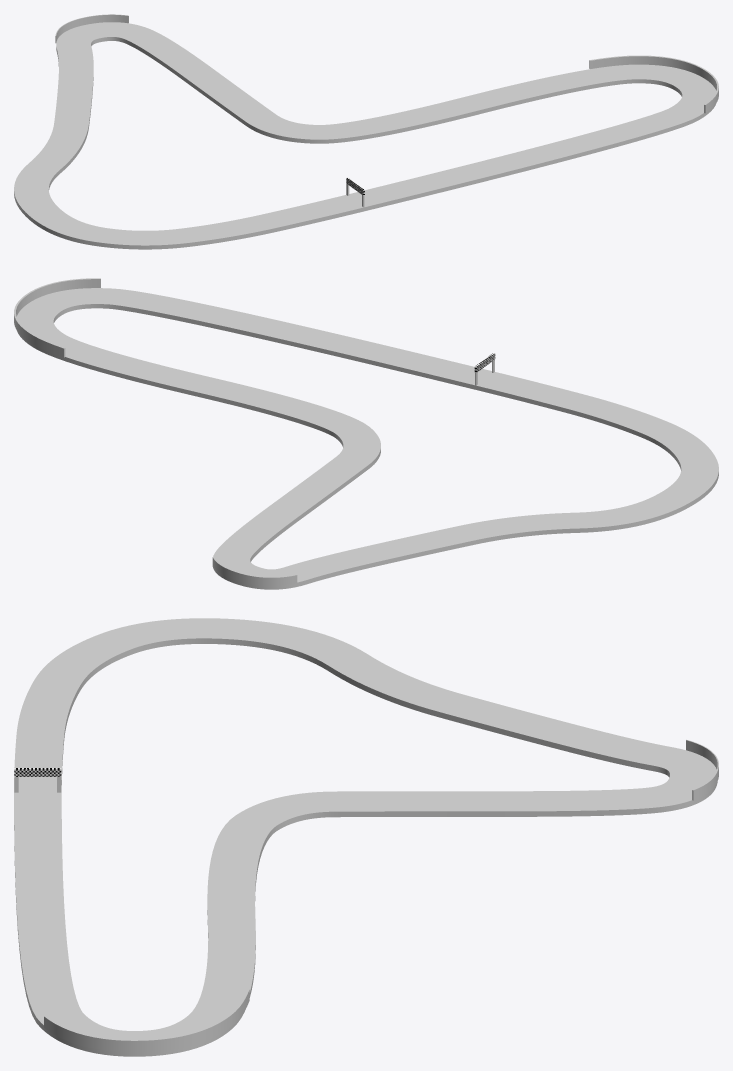
The model's file is track1.dae.
The picture shows the model from 3 angles, top to bottom: view 1: azimuth 30°, elevation 25°; view 2: azimuth 150°, elevation 25°; view 3: azimuth 270°, elevation 25°; orthographic projection. The views are drawn at different scales.
Parts seen in each view (by area): view 1: NurbsPath; view 2: NurbsPath; view 3: NurbsPath.
Boxes of the visible parts, left/top/right/bottom form: NurbsPath: left=14, top=14, right=718, bottom=249; NurbsPath: left=14, top=278, right=718, bottom=589; NurbsPath: left=14, top=618, right=718, bottom=1056.
Size of the model in its own units: 63.49 by 43.58 by 1.99.
Materials: 2 (1 with a texture image).
